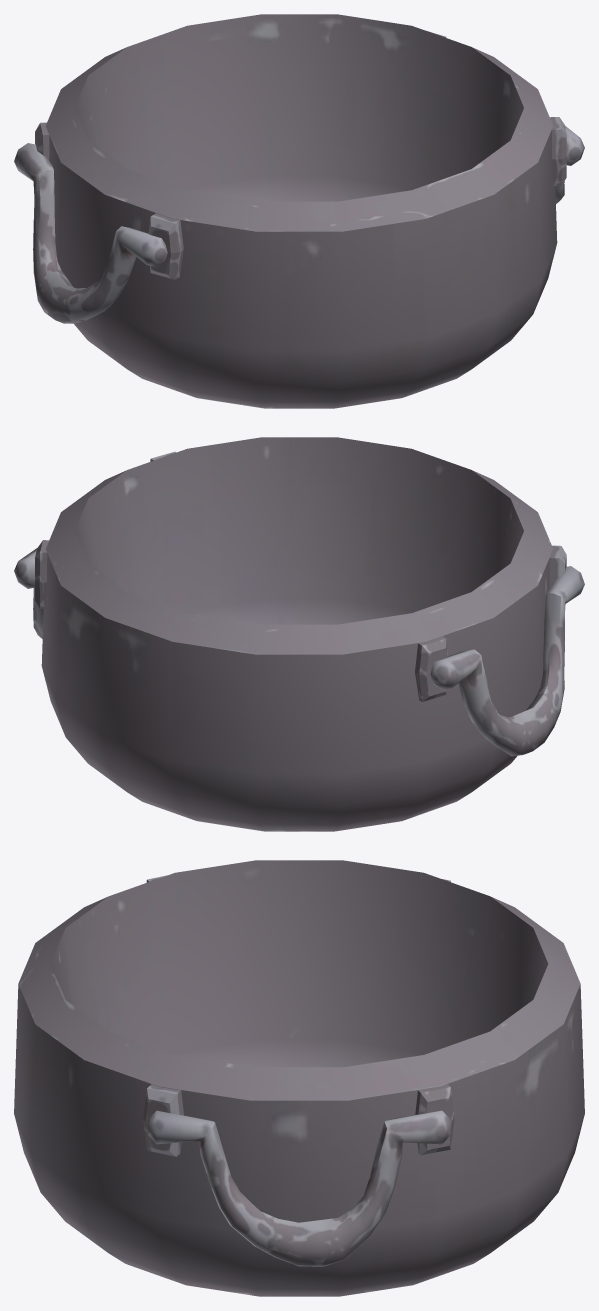
The model's file is Pot_1.gltf.
3 renders of one model, top to bottom at view 1: azimuth 30°, elevation 25°; view 2: azimuth 150°, elevation 25°; view 3: azimuth 270°, elevation 25°, orthographic. The views are drawn at different scales.
Visible parts, largest first — view 1: Pot_1; view 2: Pot_1; view 3: Pot_1.
Boxes of the visible parts, bbox=[...] form: Pot_1: bbox=[14, 14, 584, 408]; Pot_1: bbox=[14, 437, 584, 831]; Pot_1: bbox=[14, 860, 584, 1296].
Size of the model in its own units: 0.5393 by 0.2238 by 0.486.
Materials: 1 (1 with a texture image).
